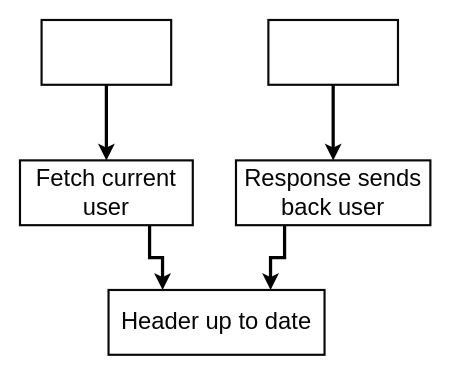
The diagram is 449 pixels wide and 374 high, and some of its shapes have lost their labels. The centre of each missing label's shape, as x and y in pixels:
"App boots up" goes at (x=106, y=51).
"User pays money" goes at (x=333, y=51).
